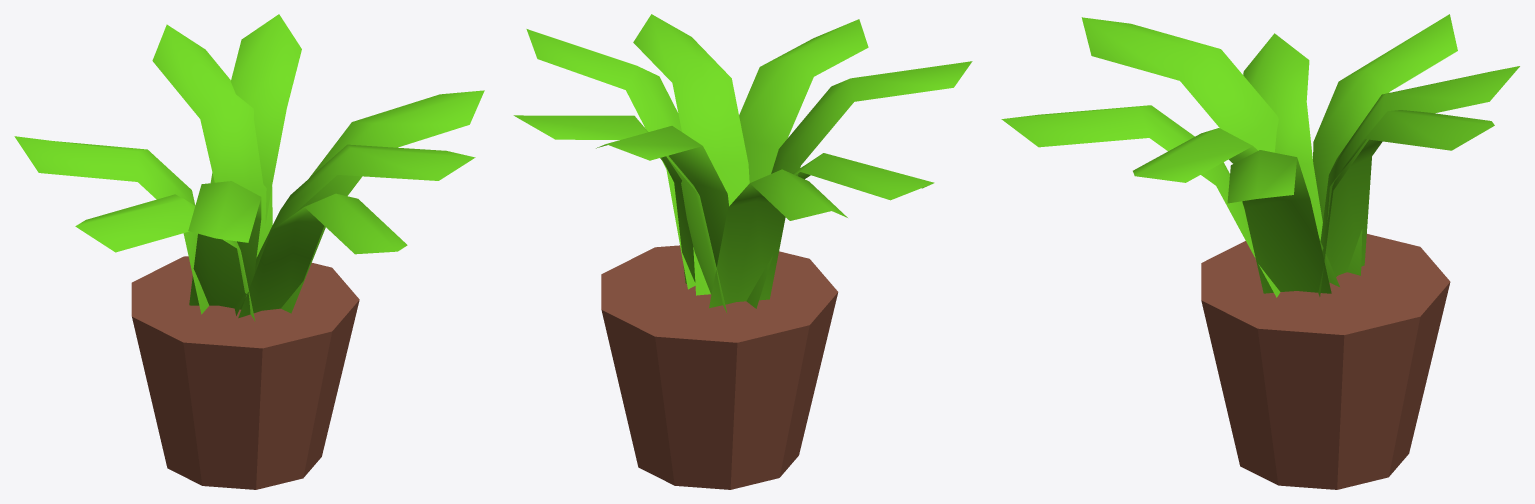
The model's file is Plant.fbx.
The picture shows the model from 3 angles, left to right: view 1: azimuth 30°, elevation 25°; view 2: azimuth 150°, elevation 25°; view 3: azimuth 270°, elevation 25°; orthographic projection. The views are drawn at different scales.
Parts seen in each view (by area): view 1: Plant; view 2: Plant; view 3: Plant.
Boxes of the visible parts, x1,y1,x2,y2 form: Plant: (14, 14, 484, 489); Plant: (513, 14, 972, 489); Plant: (1001, 14, 1519, 489).
Bounding box in the file's own units: 55.86 × 48.18 × 57.24.
